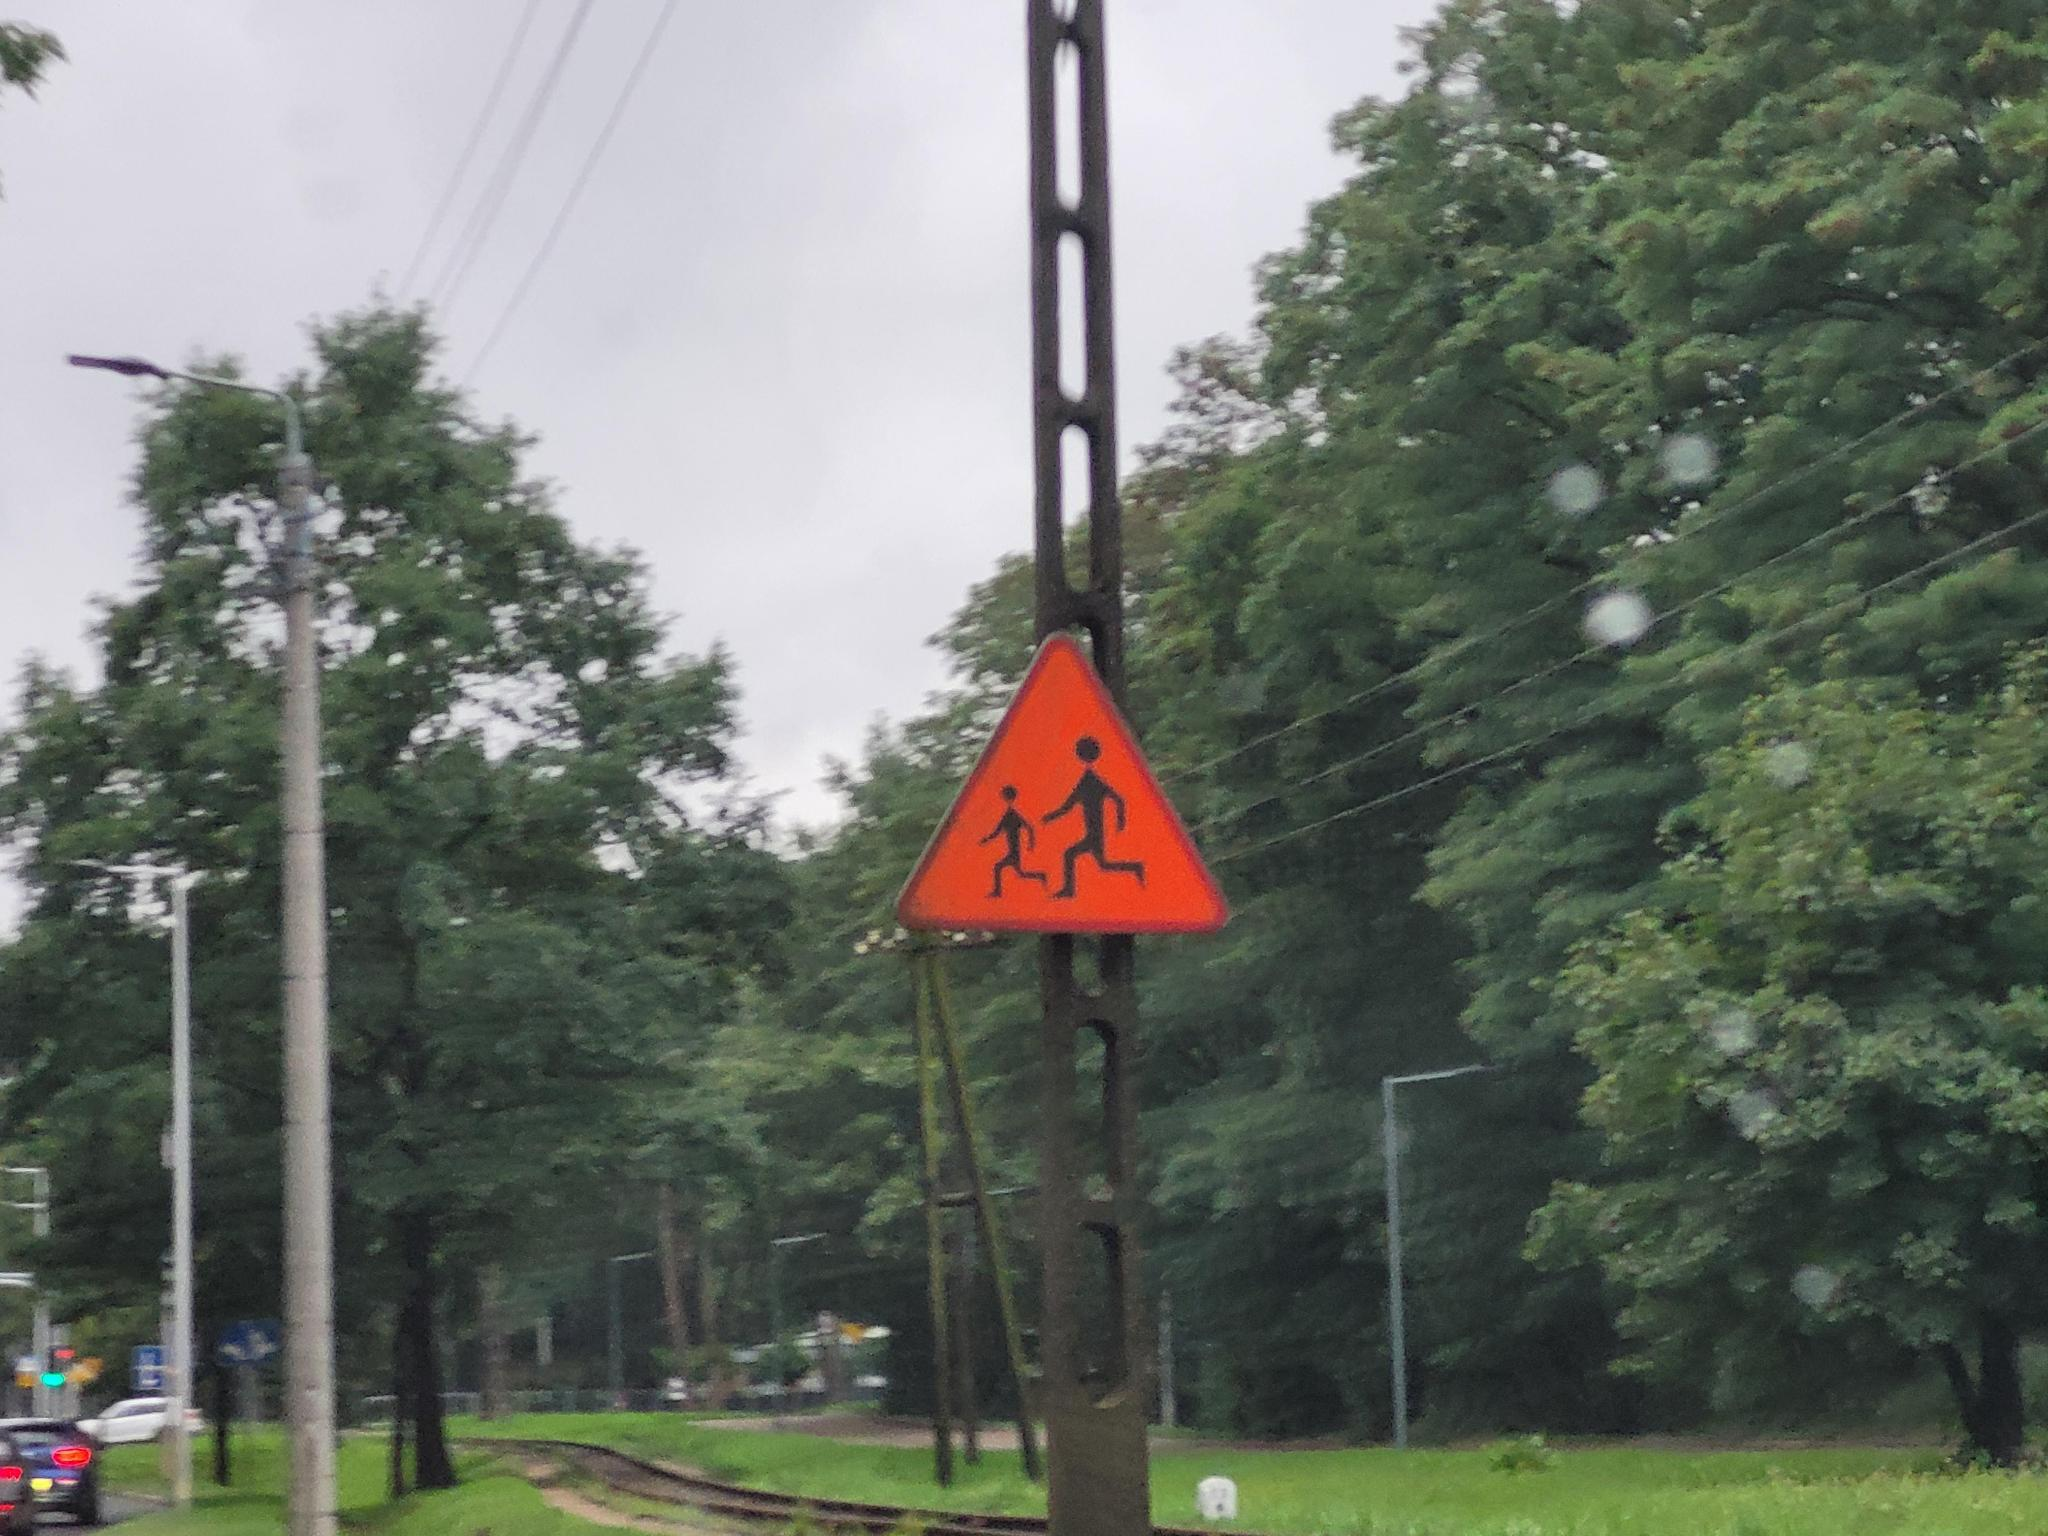information: (135, 1346, 163, 1394)
other: (200, 1315, 300, 1370)
warning: (895, 632, 1229, 945)
